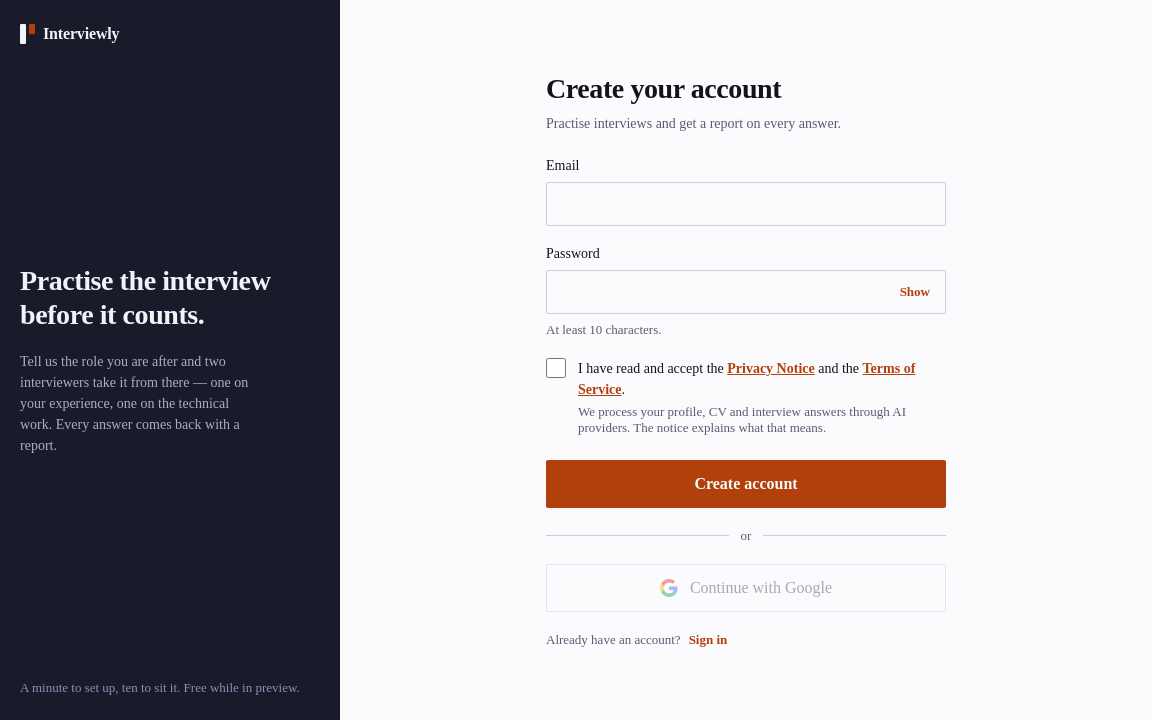
Test: register page › falls back to UNKNOWN for a code that is not in the registry
The width and height of the screenshot is (1152, 720).
Type "someone@example.com" into the field labelled "Email" at (746, 204), box [546,182,946,226]
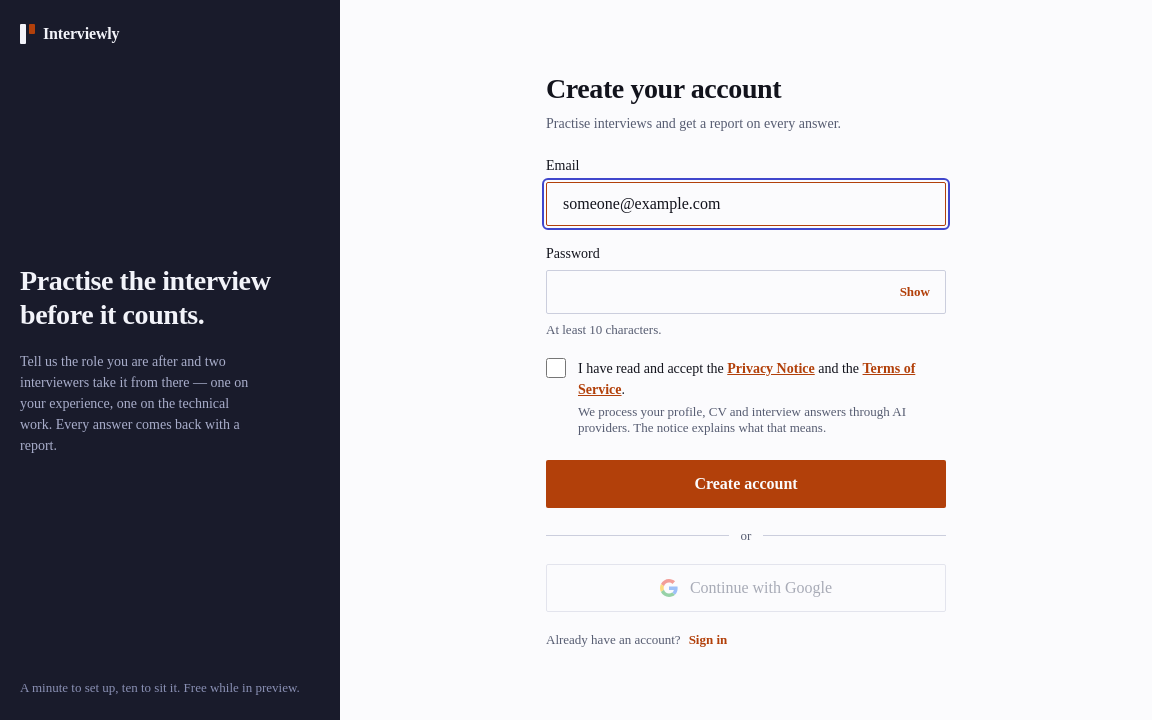
Type "correct-horse" into the password field labelled "Password" at (746, 292), box [546,270,946,314]
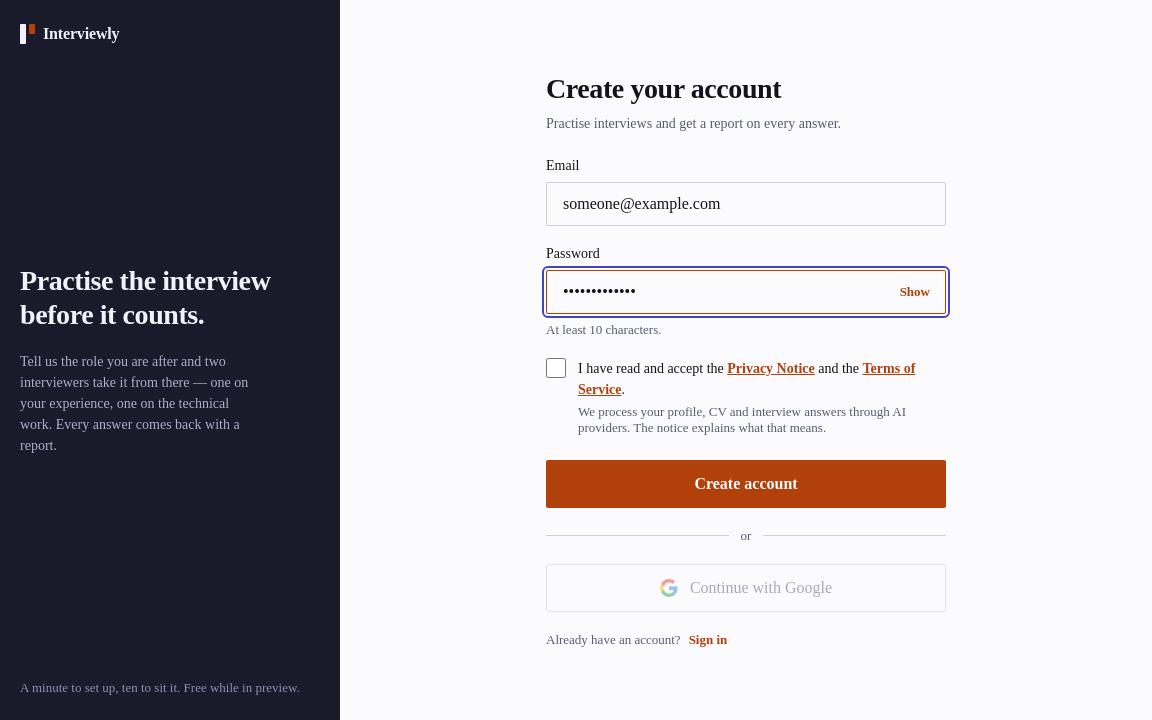
Click the checkbox at (556, 368), box [546,358,566,378]
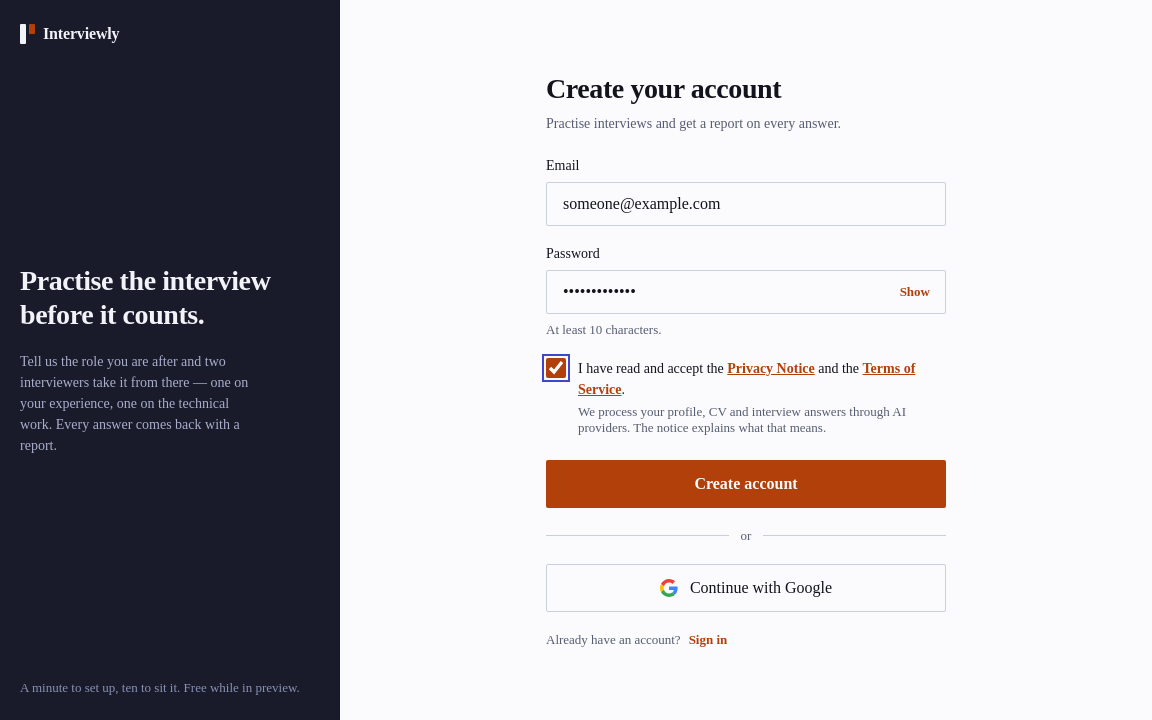
Click the button "Create account" at (746, 484), box [546,460,946,508]
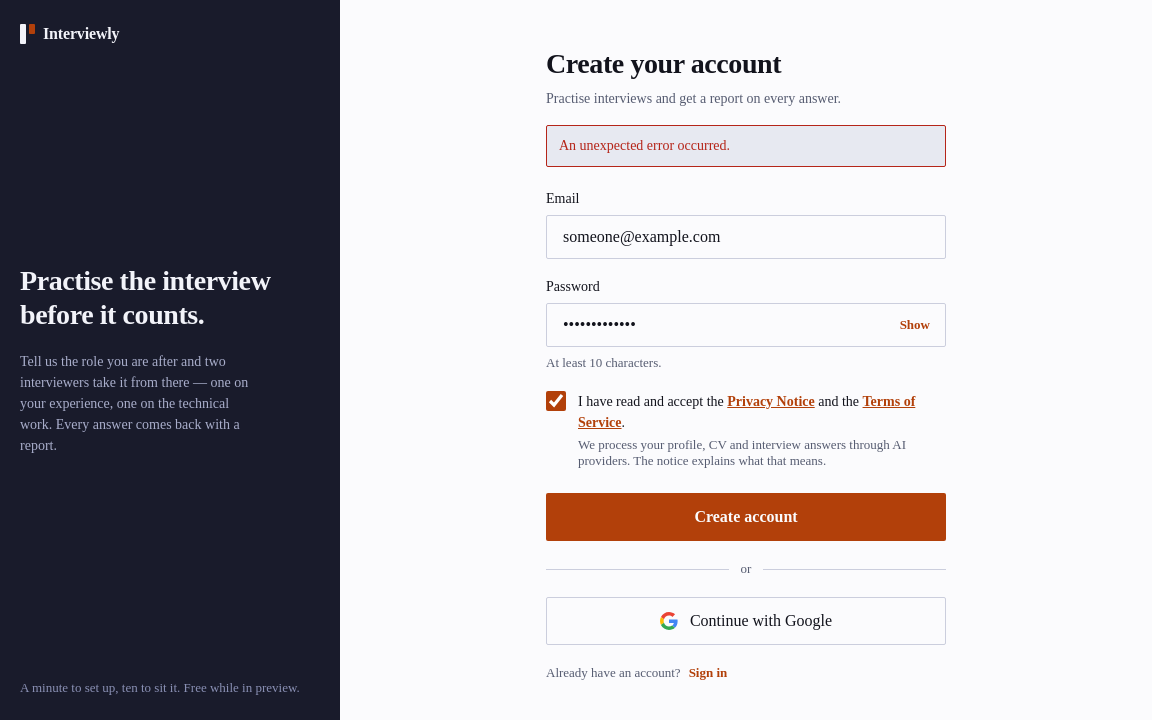
Expected: the text "An unexpected error occurred." is shown, [546,125,946,167]
